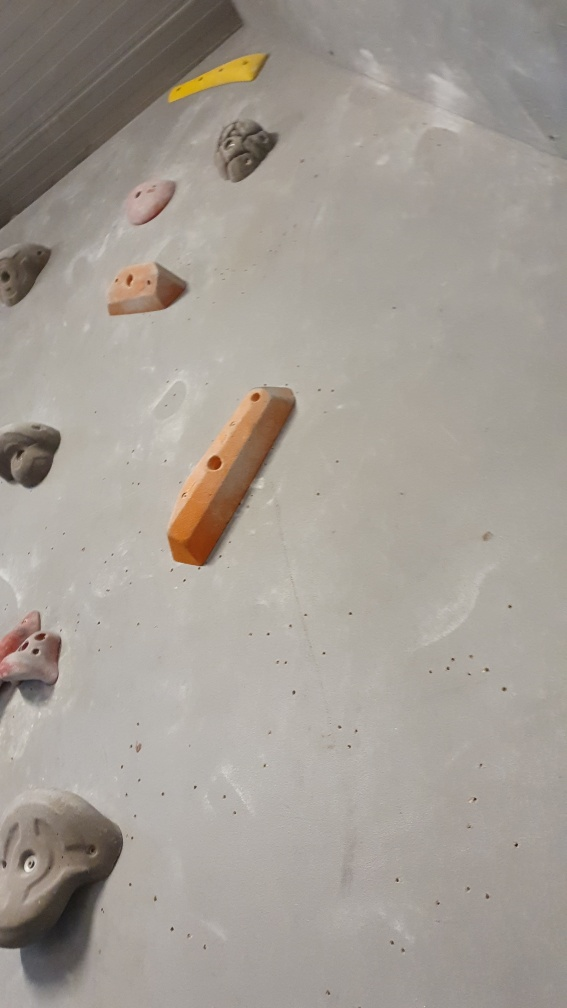Crimp: (161, 49, 272, 104)
Jug: (211, 116, 280, 187)
Pinch: (167, 378, 299, 568), (103, 260, 190, 318)
